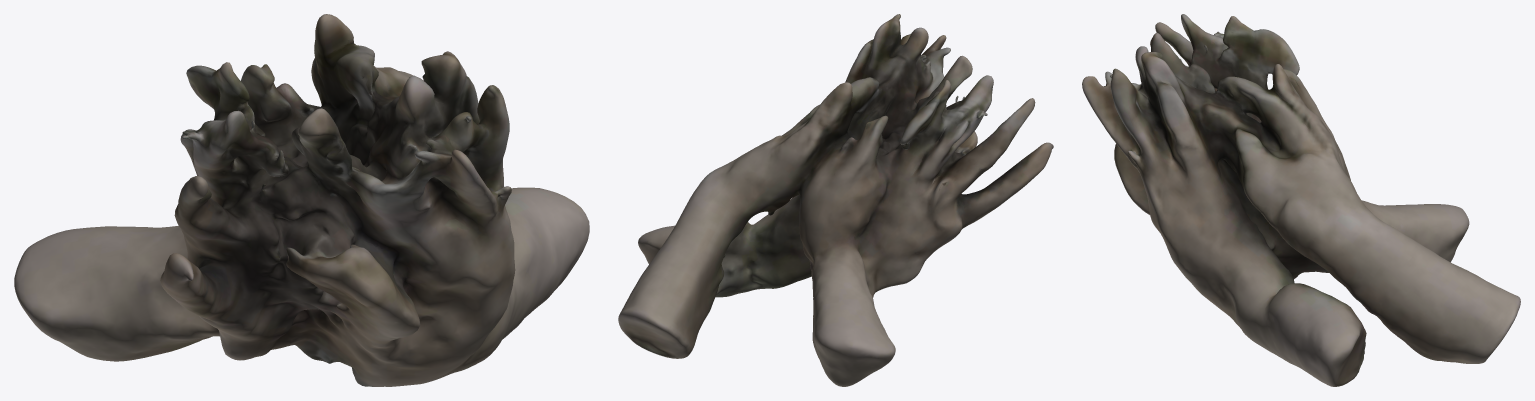
The model's file is 46ce02cb5be2_hands_sculpture__3d.fbx.
The picture shows the model from 3 angles, left to right: view 1: azimuth 30°, elevation 25°; view 2: azimuth 150°, elevation 25°; view 3: azimuth 270°, elevation 25°; orthographic projection. The views are drawn at different scales.
Parts seen in each view (by area): view 1: high_poly; view 2: high_poly; view 3: high_poly.
Part boxes in pixels (<box>): high_poly: <box>14,14,589,386</box>; high_poly: <box>618,14,1053,386</box>; high_poly: <box>1082,14,1520,386</box>.
Bounding box in the file's own units: 93.24 × 68.63 × 100.
